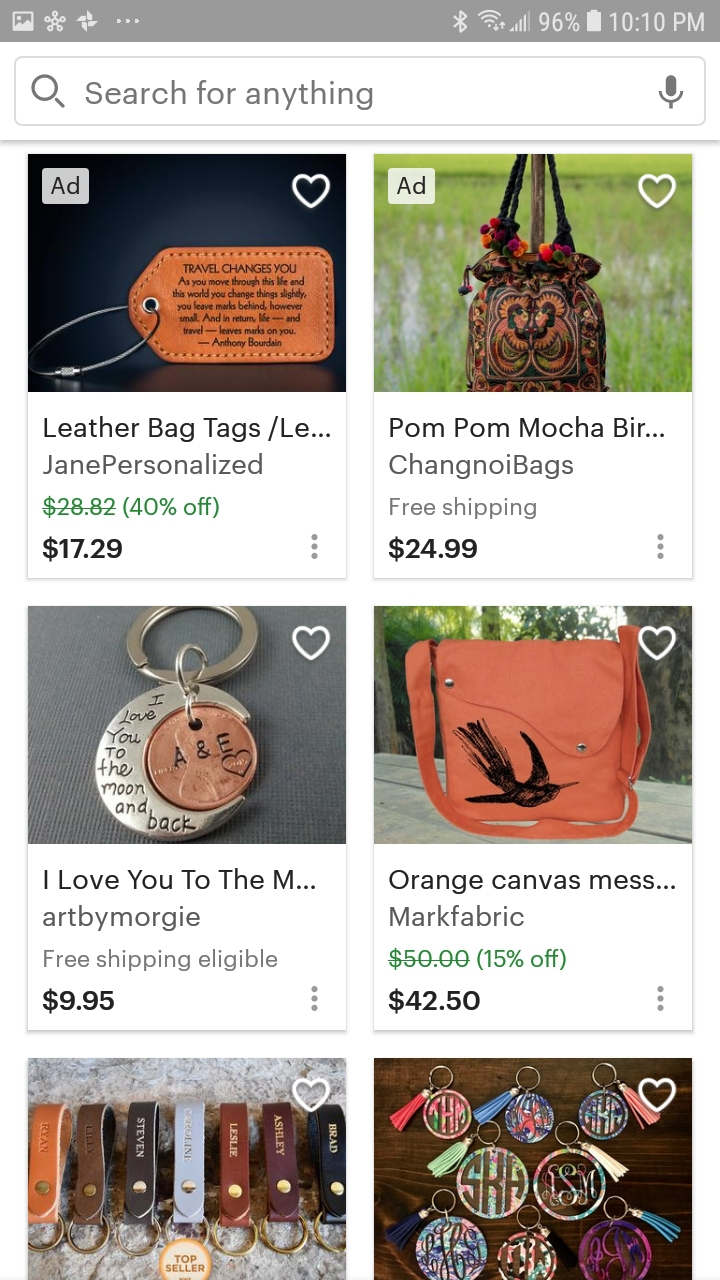EditText: (15, 57, 706, 127)
Icon: (637, 174, 677, 210), (638, 625, 676, 661), (638, 1077, 677, 1112), (292, 1078, 331, 1112), (292, 174, 330, 208), (293, 627, 331, 661), (32, 75, 66, 109), (658, 76, 684, 111), (656, 534, 665, 561), (656, 985, 665, 1012), (310, 534, 319, 560), (311, 985, 319, 1012)
Image: (374, 606, 692, 845), (375, 154, 693, 393), (28, 155, 347, 393), (29, 608, 347, 845), (374, 1058, 692, 1280), (29, 1058, 347, 1280)
Text: (86, 81, 374, 111), (44, 416, 331, 444), (389, 869, 675, 895), (390, 416, 665, 439), (44, 869, 316, 891), (44, 948, 278, 972), (389, 453, 574, 481), (43, 453, 264, 476), (44, 904, 202, 932), (388, 947, 567, 971), (43, 496, 220, 519), (389, 497, 537, 521), (390, 904, 524, 927), (388, 988, 480, 1015), (388, 536, 478, 563), (43, 536, 123, 563), (43, 987, 115, 1014)
TextButton: (42, 168, 90, 205), (388, 168, 436, 205)
UpperTaskBar: (1, 1, 720, 43)
